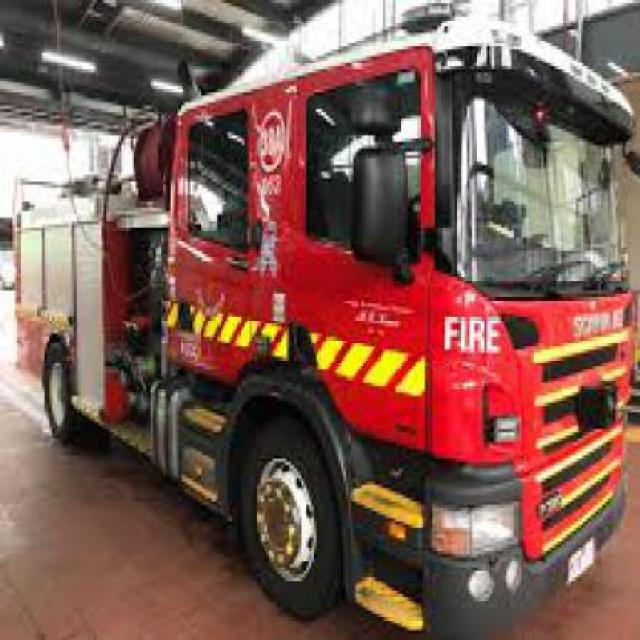Fire Truck: (0, 49, 638, 636)
